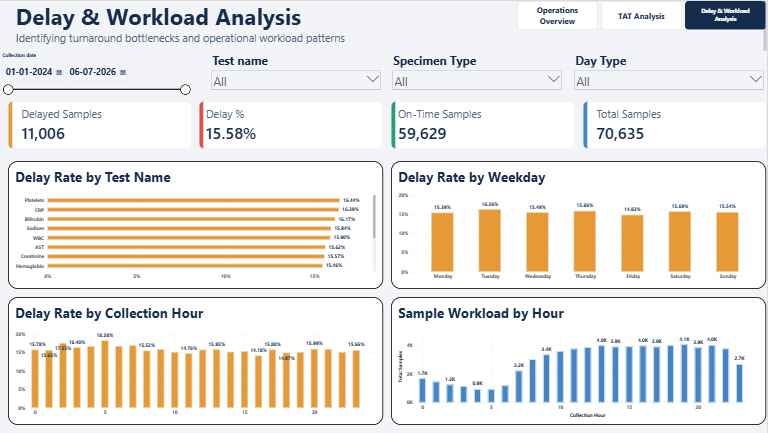

Layout of this report page (visuals, bound fields, positions):
{"tool":"powerbi","page":{"name":"Delay & Workload Analysis","canvas":[1920,1080],"ordinal":2},"visuals":[{"type":"textbox","box":[0,0,1919.4,136.1],"z":0},{"type":"clusteredBarChart","title":"Delay Rate by Test Name","fields":{"Category":["labpulse lab_results.test_name"],"Y":["labpulse lab_results.Delay %"]},"box":[22,400,938,320],"z":1000},{"type":"clusteredColumnChart","title":"Delay Rate by Weekday","fields":{"Category":["labpulse lab_results.day_of_week"],"Y":["labpulse lab_results.Delay %"]},"box":[981,400,938,320],"z":2000},{"type":"clusteredColumnChart","title":"Delay Rate by Collection Hour","fields":{"Category":["labpulse lab_results.collection_hour"],"Y":["labpulse lab_results.Delay %"]},"box":[22,740,938,320],"z":3000},{"type":"clusteredColumnChart","title":"Sample Workload by Hour","fields":{"Category":["labpulse lab_results.collection_hour"],"Y":["labpulse lab_results.Total Samples"]},"box":[981,740,938,320],"z":4000},{"type":"cardVisual","fields":{"Data":["labpulse lab_results.Delayed Samples"]},"box":[22,250,459,120],"z":5000},{"type":"cardVisual","fields":{"Data":["labpulse lab_results.Delay %"]},"box":[501,250,459,120],"z":6000},{"type":"cardVisual","fields":{"Data":["labpulse lab_results.On-Time Samples"]},"box":[980,250,459,120],"z":7000},{"type":"cardVisual","fields":{"Data":["labpulse lab_results.Total Samples"]},"box":[1460,250,459,120],"z":8000},{"type":"slicer","fields":{"Values":["labpulse lab_results.collection_date"]},"box":[-1,127.5,482.5,110],"z":9000},{"type":"slicer","fields":{"Values":["labpulse lab_results.test_name"]},"box":[525,127.5,435,110],"z":10000},{"type":"slicer","fields":{"Values":["labpulse lab_results.specimen_type"]},"box":[977.5,127.5,435,110],"z":11000},{"type":"slicer","fields":{"Values":["labpulse lab_results.day_type"]},"box":[1432.5,127.5,485,110],"z":12000},{"type":"pageNavigator","box":[1295,0,622,72],"z":12001}]}

Visuals, with their boxes in screenshot pixels (x1, y1, x2, y2), scaled from the page's 1920x1080 canvas onto the 768x433 screenshot:
textbox: [left=0, top=0, right=767, bottom=55]
"Delay Rate by Test Name" clusteredBarChart: [left=9, top=160, right=384, bottom=289]
"Delay Rate by Weekday" clusteredColumnChart: [left=392, top=160, right=767, bottom=289]
"Delay Rate by Collection Hour" clusteredColumnChart: [left=9, top=297, right=384, bottom=425]
"Sample Workload by Hour" clusteredColumnChart: [left=392, top=297, right=767, bottom=425]
cardVisual - labpulse lab_results.Delayed Samples: [left=9, top=100, right=192, bottom=148]
cardVisual - labpulse lab_results.Delay %: [left=200, top=100, right=384, bottom=148]
cardVisual - labpulse lab_results.On-Time Samples: [left=392, top=100, right=576, bottom=148]
cardVisual - labpulse lab_results.Total Samples: [left=584, top=100, right=767, bottom=148]
slicer - labpulse lab_results.collection_date: [left=0, top=51, right=193, bottom=95]
slicer - labpulse lab_results.test_name: [left=210, top=51, right=384, bottom=95]
slicer - labpulse lab_results.specimen_type: [left=391, top=51, right=565, bottom=95]
slicer - labpulse lab_results.day_type: [left=573, top=51, right=767, bottom=95]
pageNavigator: [left=518, top=0, right=767, bottom=29]
